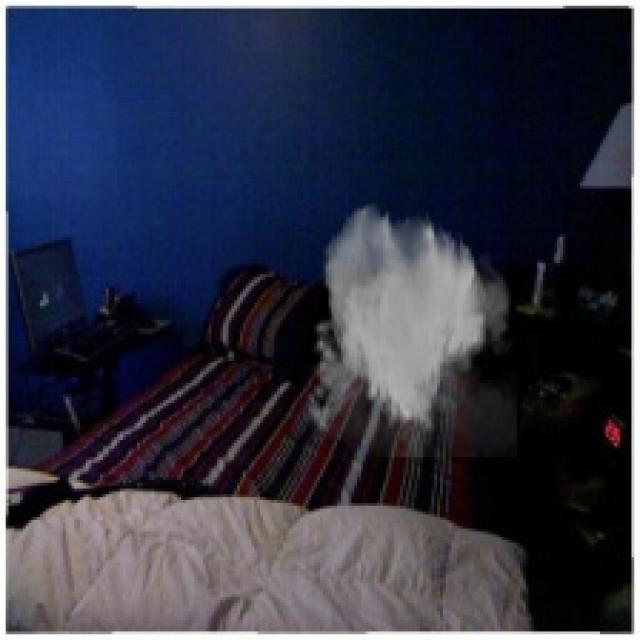smoke: (300, 200, 517, 457)
